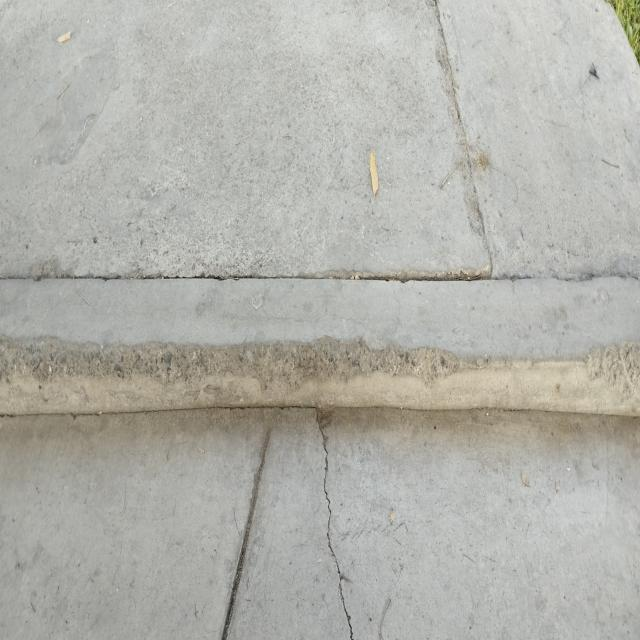bump: (0, 256, 636, 444)
